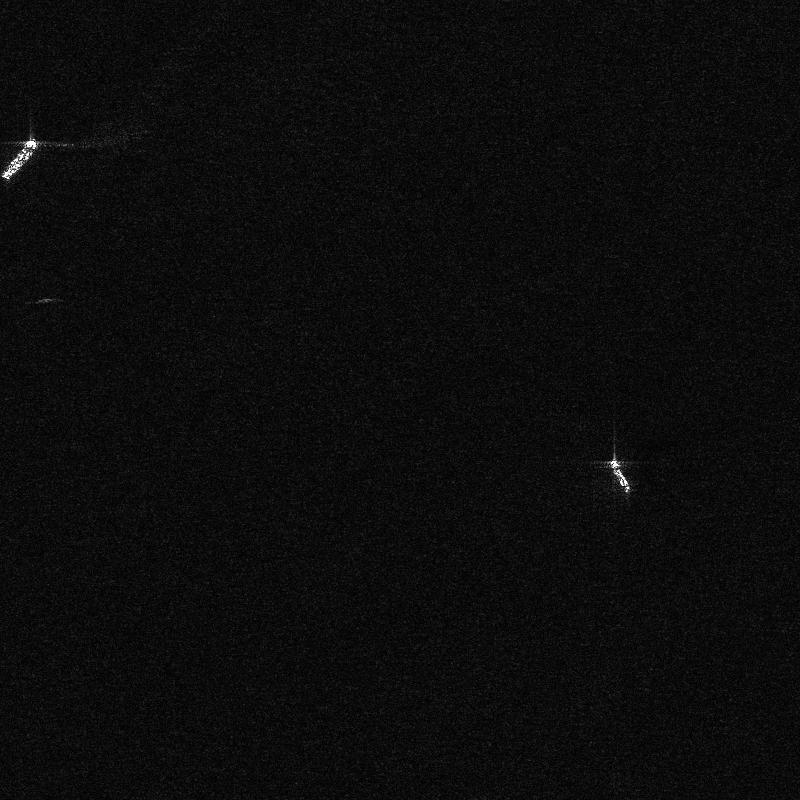ship: (0, 138, 38, 179), (609, 460, 630, 492)
